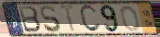9: (99, 4, 122, 34)
B: (17, 5, 43, 34)
C: (79, 4, 103, 33)
O: (119, 5, 141, 32)
S: (39, 5, 63, 34)
T: (58, 4, 78, 34)
